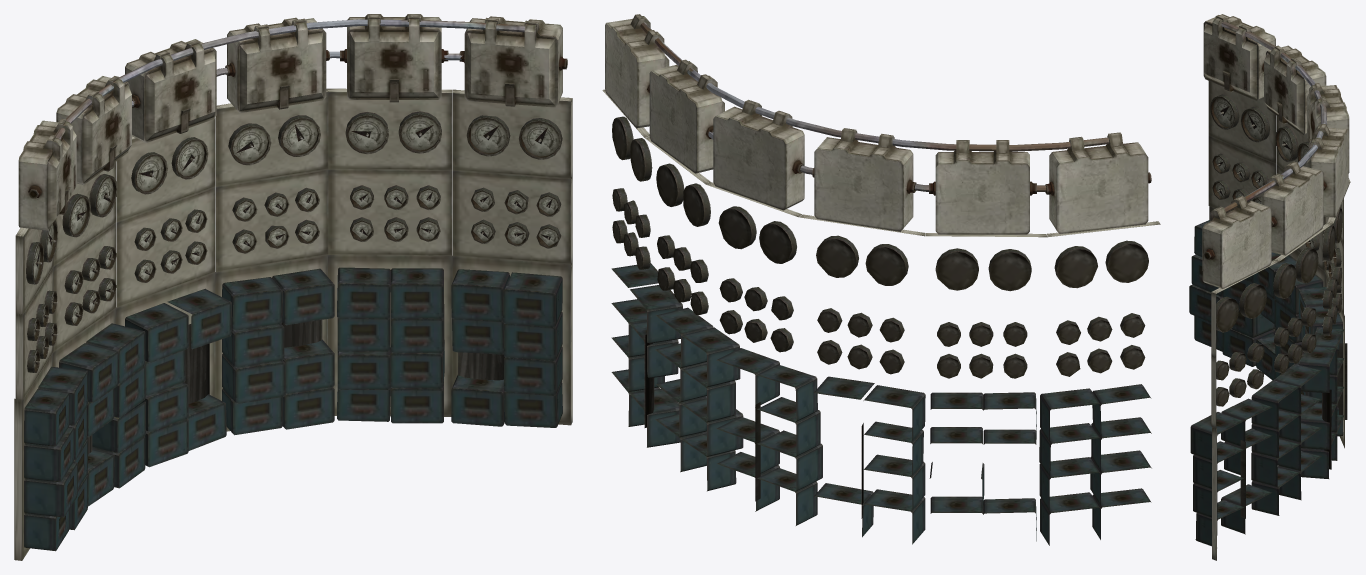
File: submarine_greeble_300x200_03_90bend.glb
3 views of the same model, side by side, from view 1: azimuth 30°, elevation 25°; view 2: azimuth 150°, elevation 25°; view 3: azimuth 270°, elevation 25° (orthographic). The views are drawn at different scales.
Parts seen in each view (by area): view 1: submarine_greeble_300x200_03_90bend_LOD0; view 2: submarine_greeble_300x200_03_90bend_LOD0; view 3: submarine_greeble_300x200_03_90bend_LOD0.
Boxes of the visible parts, x1,y1,x2,y2 form: submarine_greeble_300x200_03_90bend_LOD0: [14, 14, 572, 560]; submarine_greeble_300x200_03_90bend_LOD0: [602, 14, 1160, 545]; submarine_greeble_300x200_03_90bend_LOD0: [1189, 14, 1350, 560].
Size of the model in its own units: 2.75 by 1.92 by 0.8385.
2 materials, 2 textured.
